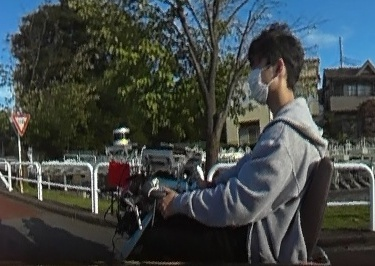person: (129, 24, 316, 266)
